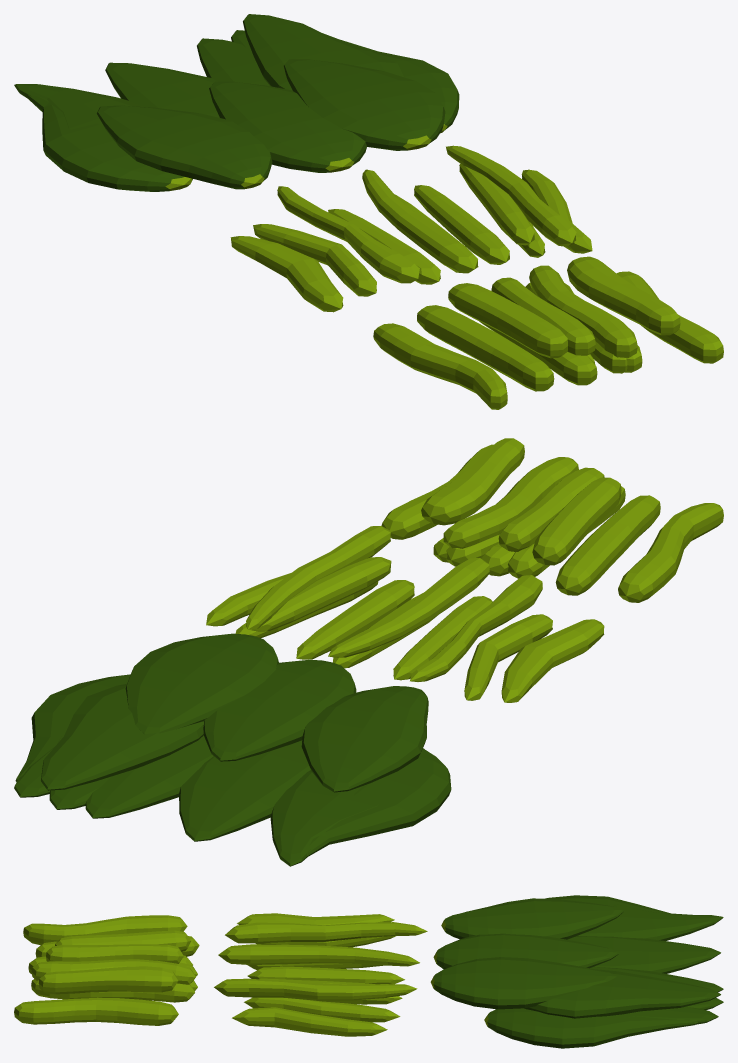
The model's file is Kangkong Sliced.fbx.
3 views of the same model, one above another, from view 1: azimuth 30°, elevation 25°; view 2: azimuth 150°, elevation 25°; view 3: azimuth 270°, elevation 25° (orthographic). The views are drawn at different scales.
Parts seen in each view (by area): view 1: Kangkong Sliced; view 2: Kangkong Sliced; view 3: Kangkong Sliced.
Boxes of the visible parts, bbox=[...] form: Kangkong Sliced: bbox=[14, 14, 723, 409]; Kangkong Sliced: bbox=[14, 438, 723, 866]; Kangkong Sliced: bbox=[14, 895, 723, 1048].
Bounding box in the file's own units: 29.5 × 3.66 × 60.95.
